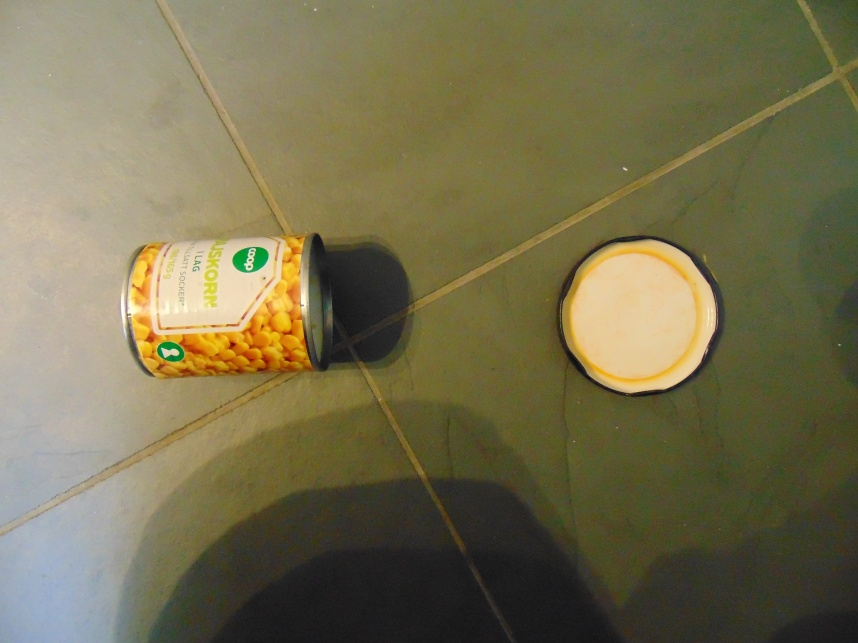metal_can: (121, 232, 334, 376), (557, 234, 724, 399)
